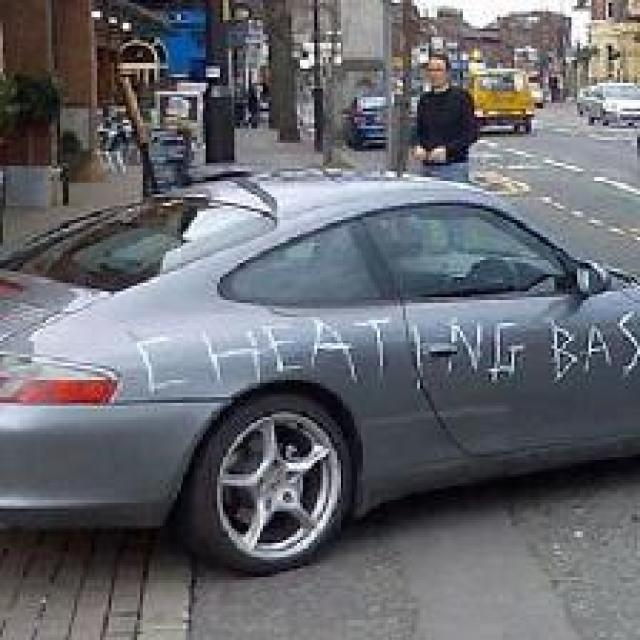door_scratch_severe: (131, 306, 637, 411)
